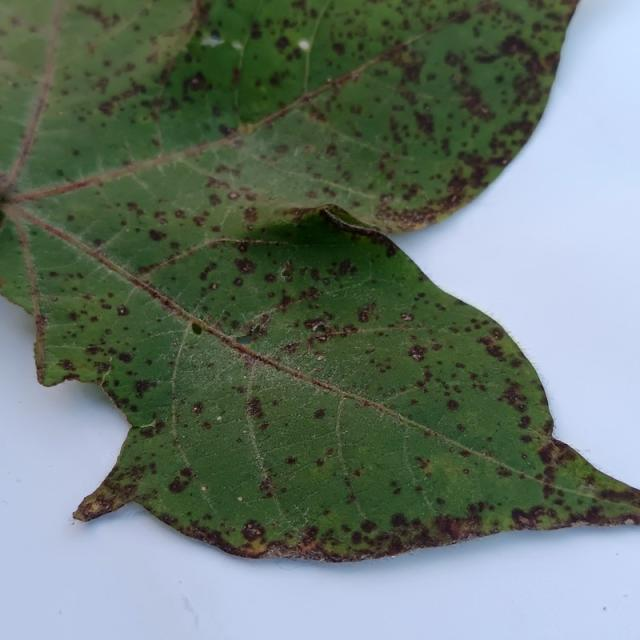Bacterial_Blight: (299, 309, 372, 348), (376, 197, 455, 232), (96, 77, 155, 117), (448, 83, 493, 130), (497, 117, 534, 145), (497, 33, 533, 60), (397, 53, 427, 85), (499, 381, 527, 410), (182, 70, 209, 96), (598, 486, 632, 505), (413, 109, 436, 137), (445, 518, 472, 539), (440, 397, 464, 420), (240, 521, 264, 543), (510, 507, 535, 528), (133, 378, 158, 397), (167, 474, 190, 494), (334, 258, 357, 278), (204, 174, 231, 191), (246, 395, 265, 419), (244, 320, 267, 339), (303, 317, 329, 333), (537, 444, 555, 465), (234, 257, 256, 274), (198, 263, 217, 282), (138, 423, 159, 439), (408, 344, 427, 361), (390, 512, 409, 528), (484, 343, 504, 358), (359, 519, 377, 534), (278, 291, 293, 309), (148, 228, 167, 242), (243, 206, 258, 223), (259, 478, 274, 494), (58, 359, 76, 372), (282, 341, 300, 354), (517, 414, 532, 429), (275, 35, 290, 50), (280, 265, 294, 281), (84, 344, 102, 356), (477, 335, 495, 347), (230, 67, 242, 85), (350, 530, 364, 545), (331, 42, 346, 56), (117, 351, 133, 364), (218, 123, 233, 136), (416, 457, 431, 470), (208, 193, 222, 206), (61, 373, 80, 382), (191, 401, 204, 414), (191, 321, 203, 335), (497, 466, 512, 477), (313, 408, 326, 420), (385, 245, 397, 258), (264, 272, 278, 283), (358, 311, 370, 323), (237, 241, 249, 253), (116, 305, 129, 316), (458, 448, 472, 458), (400, 312, 414, 322), (210, 29, 221, 41), (284, 455, 297, 465), (68, 311, 79, 322), (233, 276, 244, 286), (352, 468, 363, 478), (456, 423, 466, 432), (316, 457, 325, 467), (202, 421, 212, 430), (392, 486, 402, 495), (56, 169, 65, 177), (492, 330, 501, 338), (9, 80, 18, 88), (229, 192, 239, 199), (521, 452, 528, 459), (462, 468, 470, 474)
Cotton: (18, 0, 639, 558)
